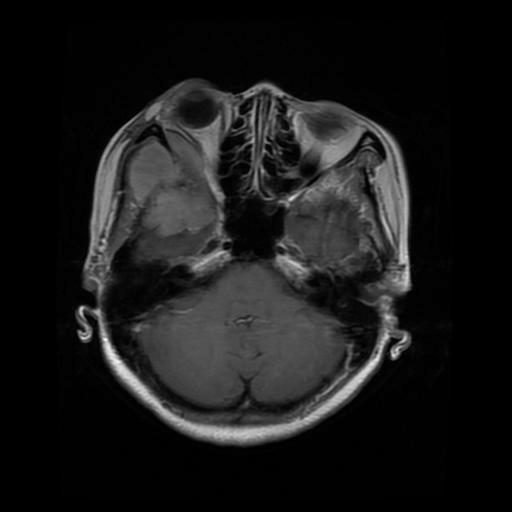Tumour-Pituitary: (289, 102, 373, 172)
